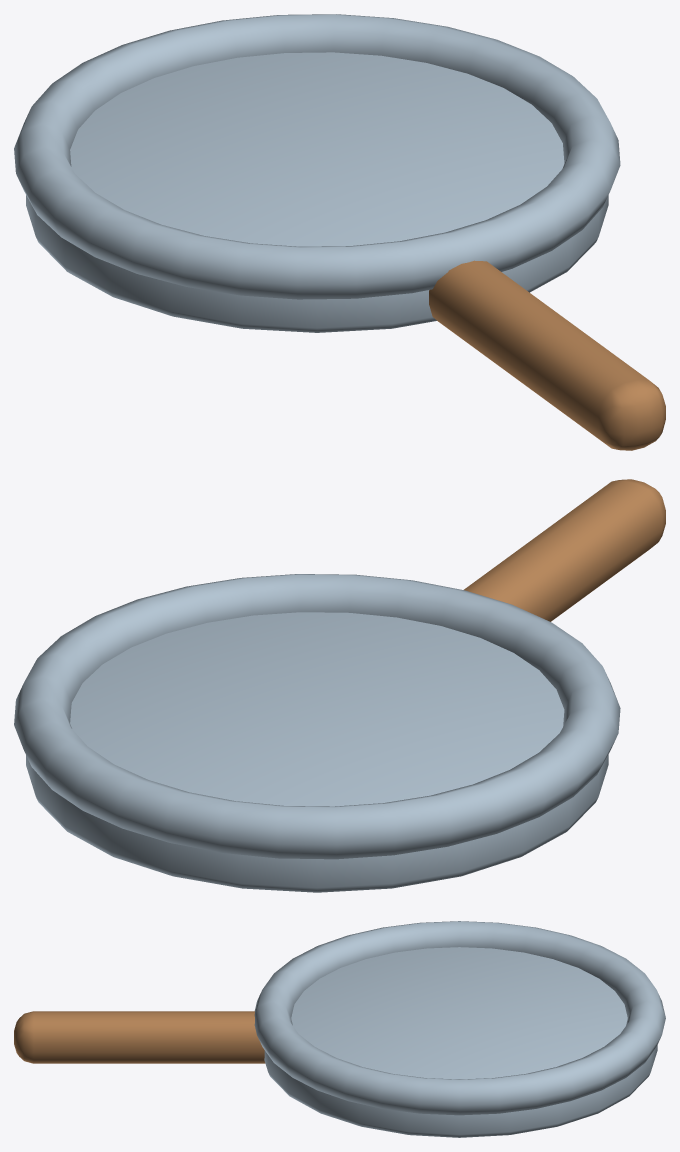
File: weapon_pan.glb
The picture shows the model from 3 angles, top to bottom: view 1: azimuth 30°, elevation 25°; view 2: azimuth 150°, elevation 25°; view 3: azimuth 270°, elevation 25°; orthographic projection. The views are drawn at different scales.
Visible parts, largest first — view 1: weapon_pan; view 2: weapon_pan; view 3: weapon_pan.
Boxes of the visible parts, x1=… form: weapon_pan: x1=14, y1=14, x2=665, y2=450; weapon_pan: x1=14, y1=479, x2=665, y2=892; weapon_pan: x1=14, y1=921, x2=665, y2=1137.
Bounding box in the file's own units: 0.584 × 0.092 × 0.922.
